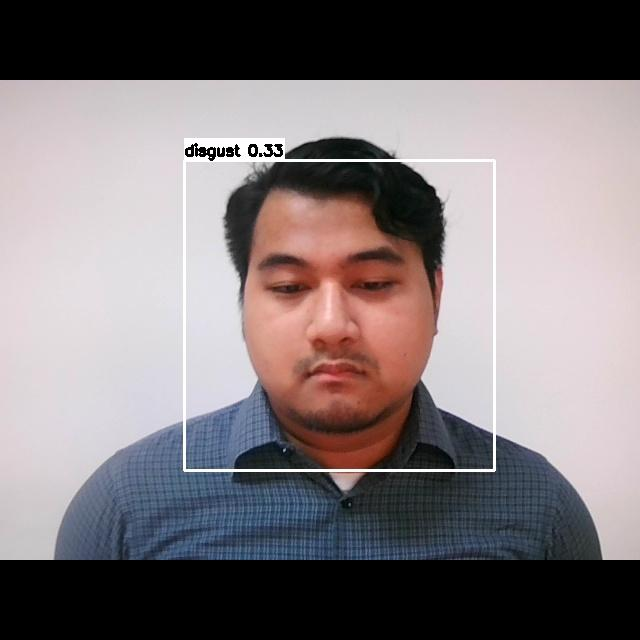Sad: (244, 229, 436, 417)
